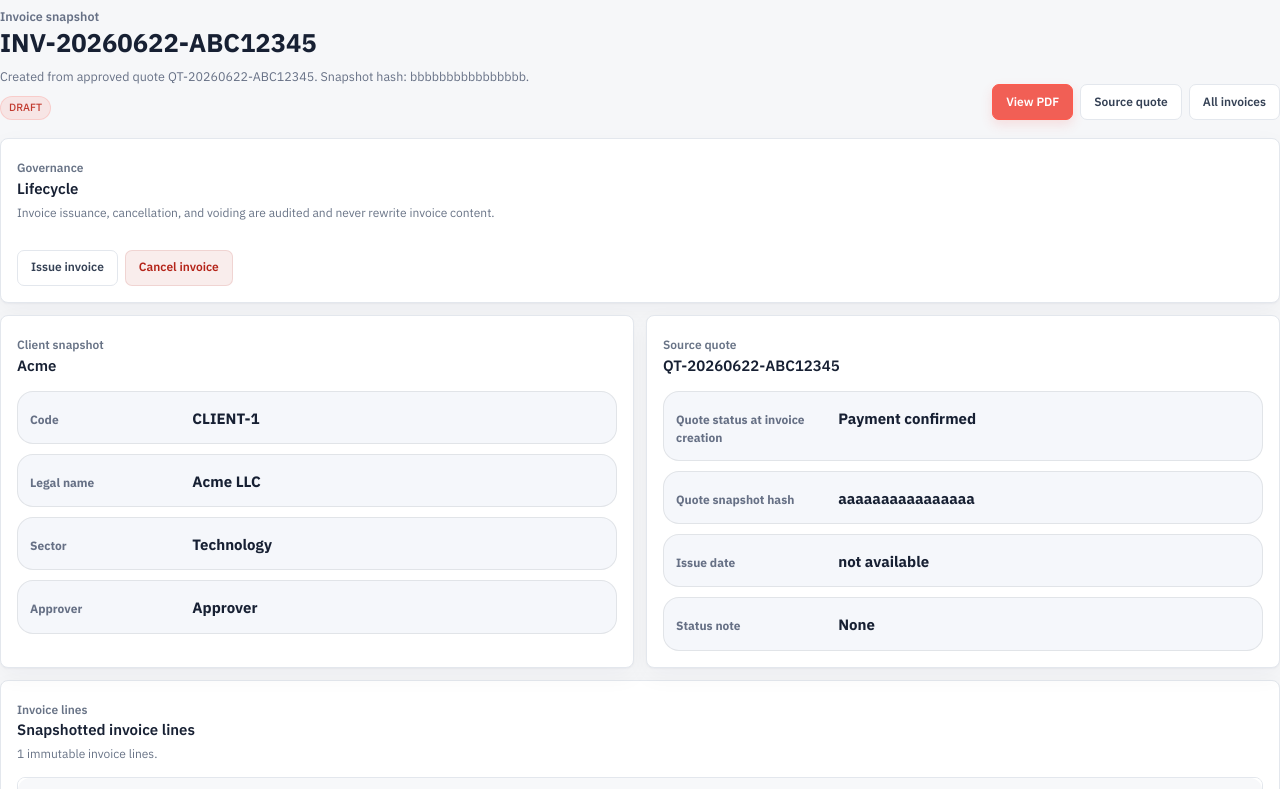
Test: Invoice foundation UI › renders invoice snapshot content and issues a draft invoice
The width and height of the screenshot is (1280, 789).
Expected: the text "Acme LLC" is shown, [192,471,261,493]
Click the button "Issue invoice".
click(67, 268)  # box [17,250,118,286]
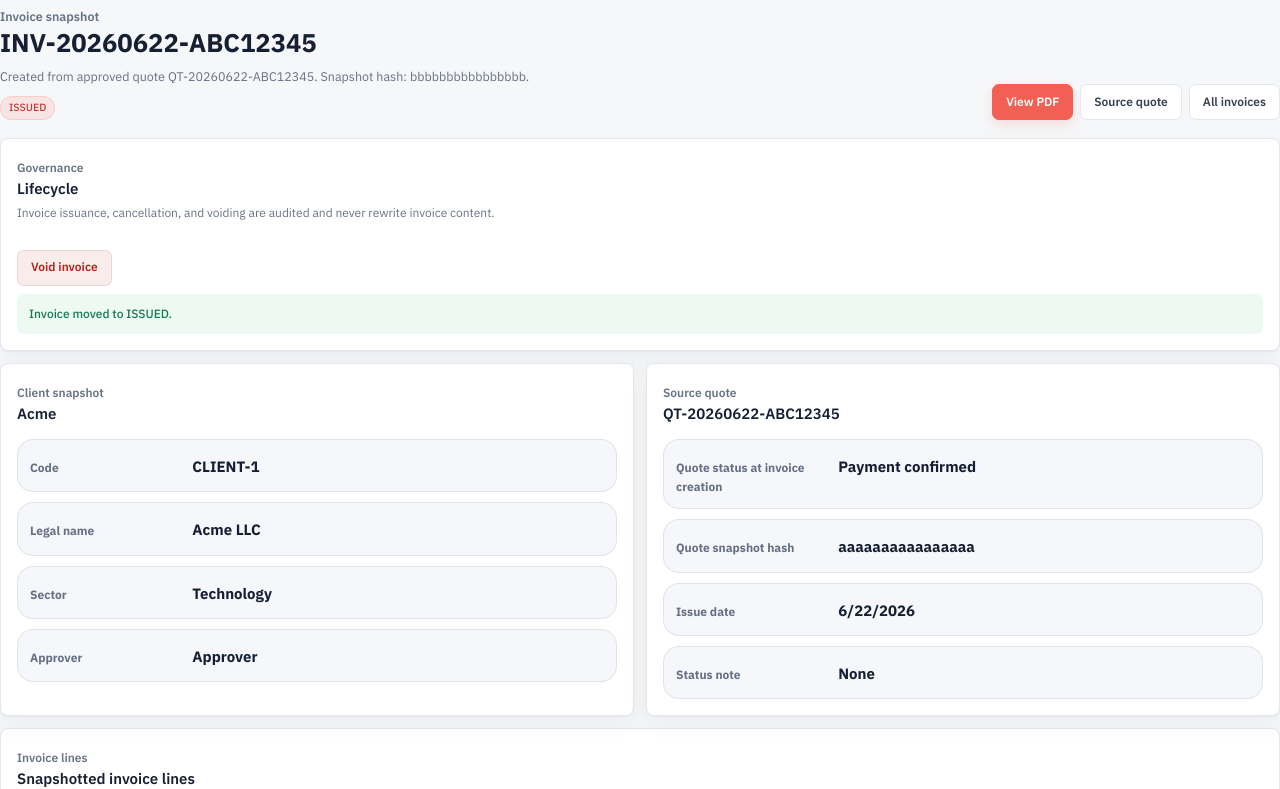
Expected: the text "Invoice moved to ISSUED." is shown, [17,294,1263,334]
